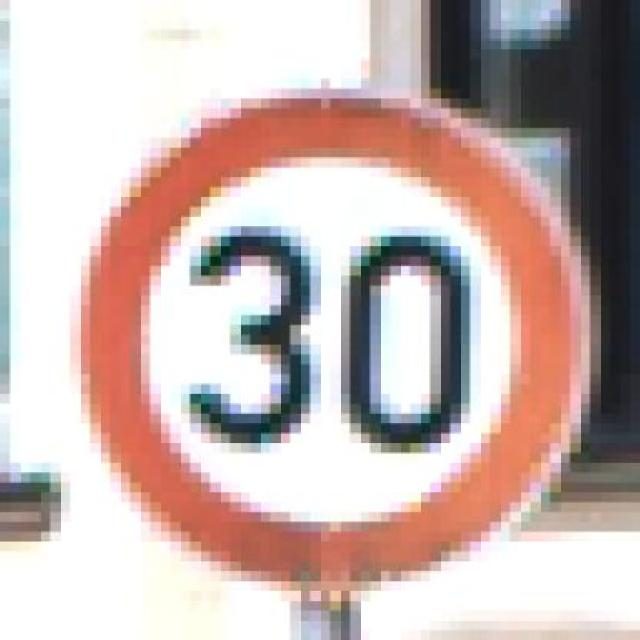Speed Limit 30 KMPh: (40, 49, 631, 620)
